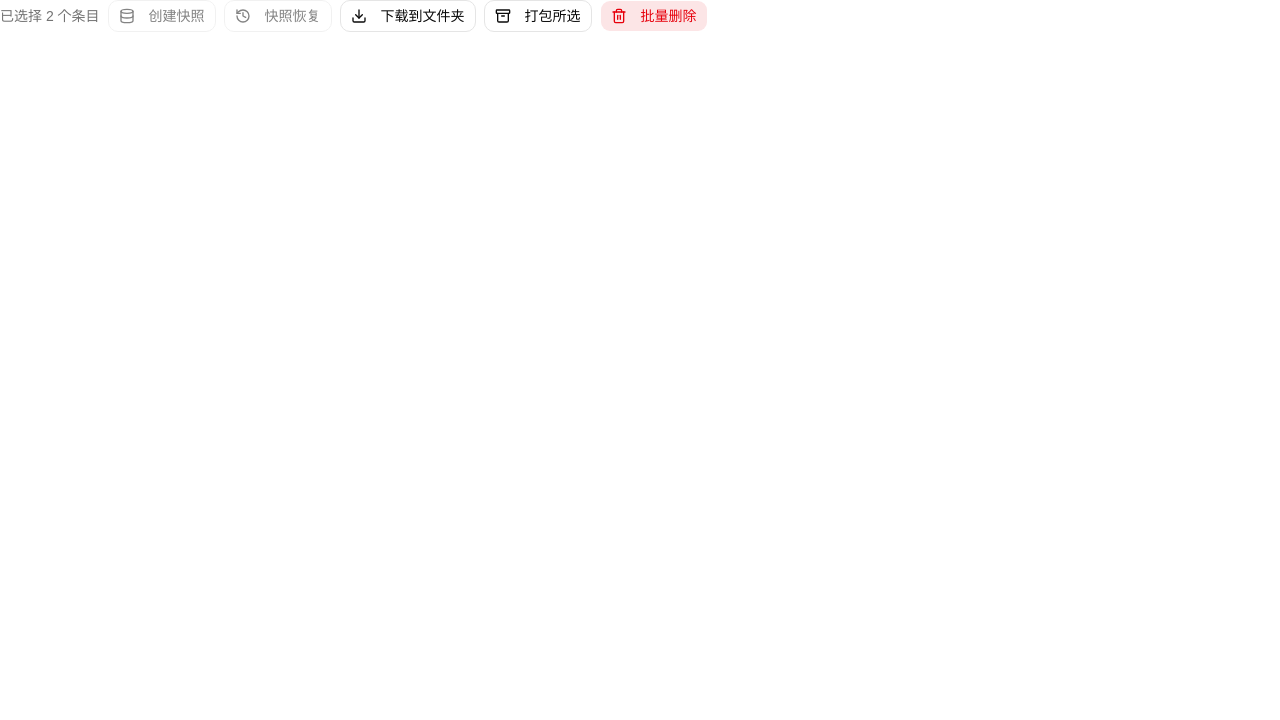
Scenario: keeps packing blocked between acceptance and the first confirmed task observation
This screenshot has width=1280, height=720.
Click the button "打包所选": [538, 16] box [484,0,592,32]
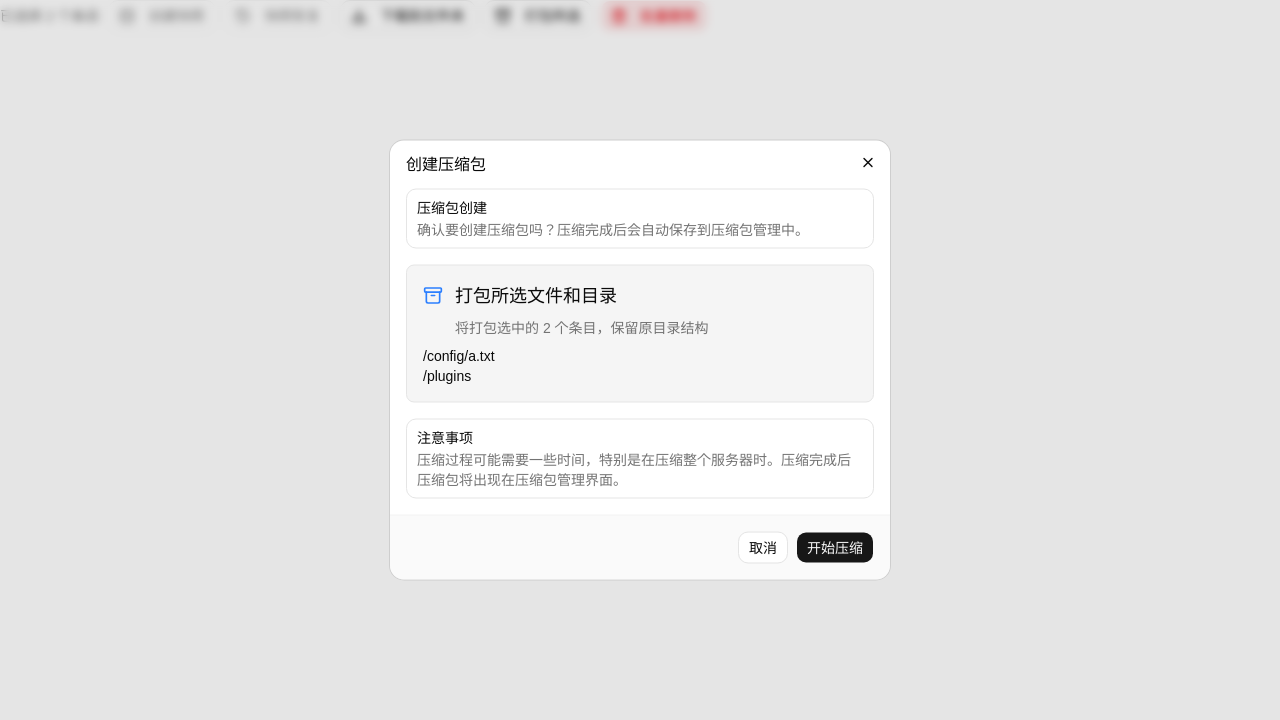
Click the button "开始压缩": [835, 548] box [796,532,874,564]
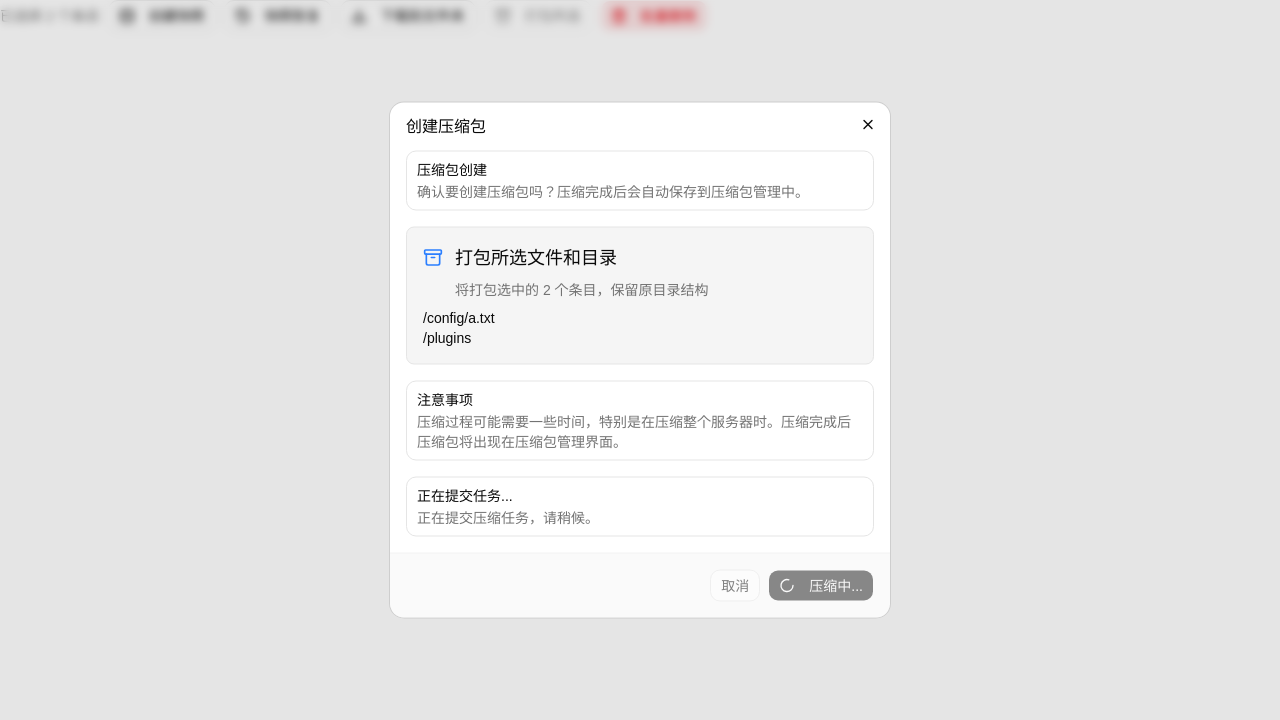
Expected: the button "压缩中..." is disabled
Expected: the button "打包所选" is disabled, [484,0,592,32]
Click the button "压缩中...": [821, 586] box [768,570,874,602]
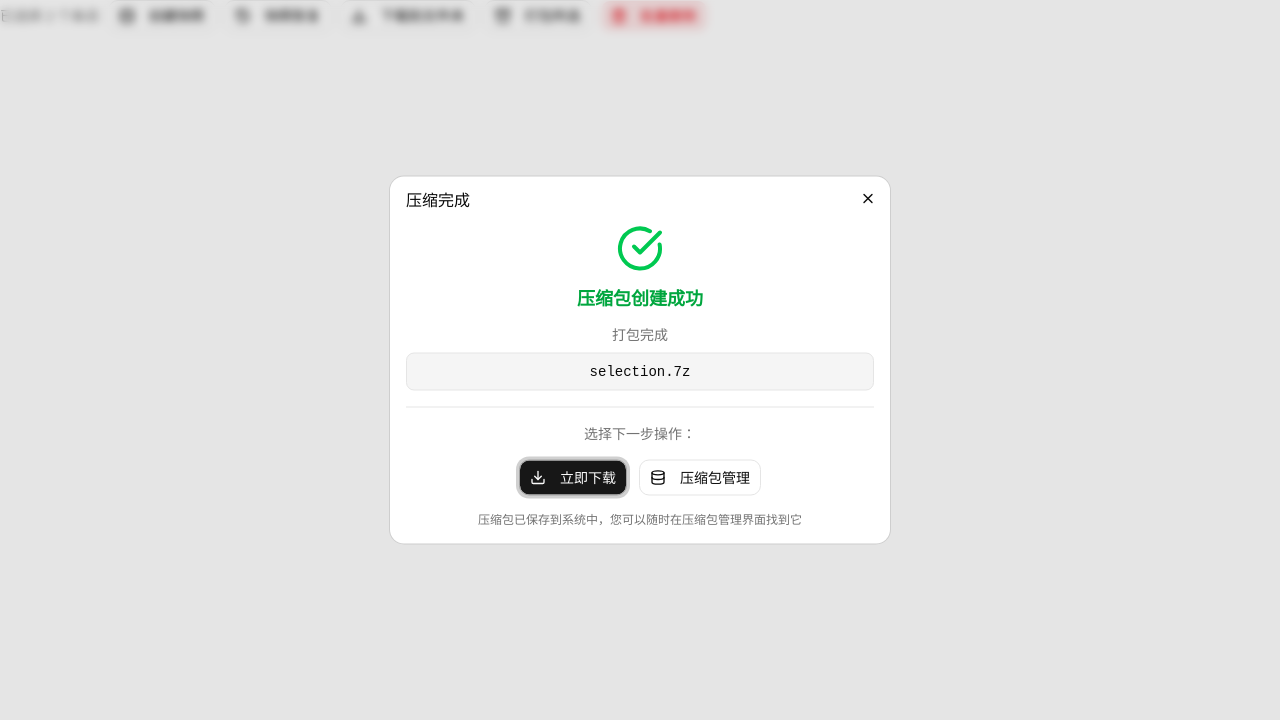
Expected: the text "selection.7z" is shown, [406,352,874,390]
